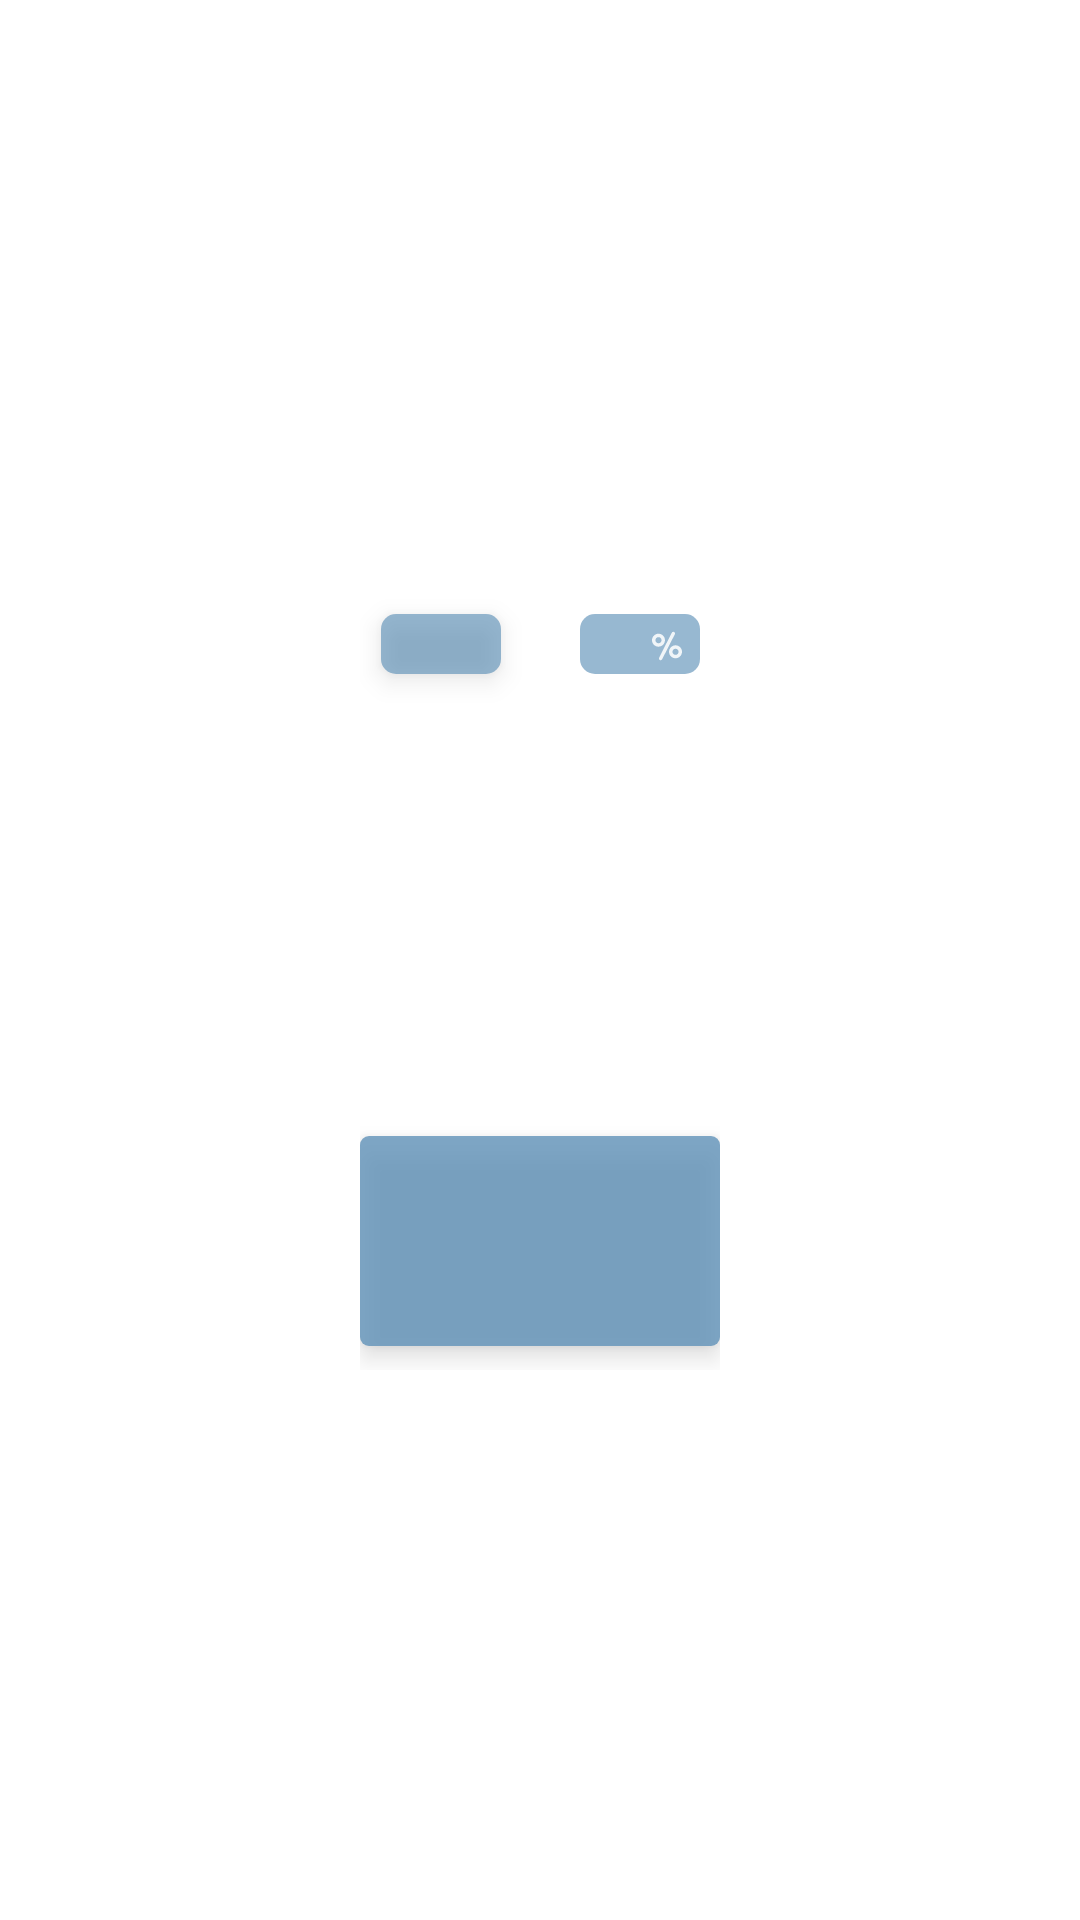

Named icons in this screenshot (1080 x 1920) and their centers, point (x, y):
por ciento: point (667, 646)
